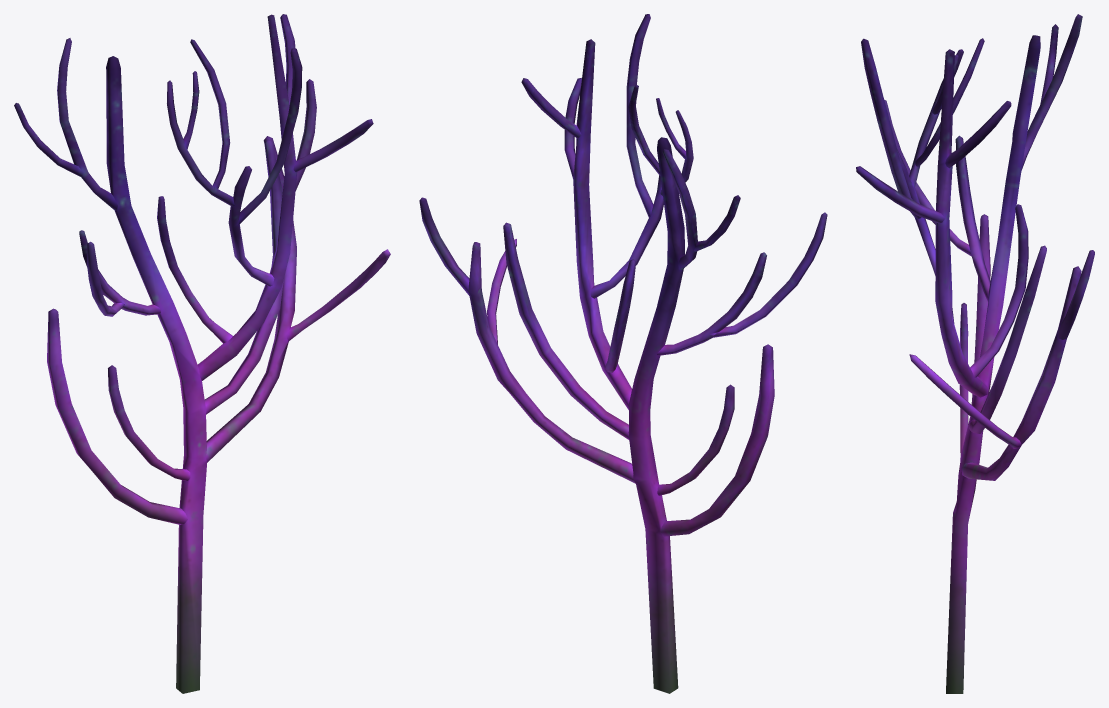
Rendered from Sce_Aquarium_Hawaii01_SeaAnemone07.FBX.
3 renders of one model, left to right at view 1: azimuth 30°, elevation 25°; view 2: azimuth 150°, elevation 25°; view 3: azimuth 270°, elevation 25°, orthographic. The views are drawn at different scales.
Parts seen in each view (by area): view 1: Sce_Aquarium_Hawaii01_SeaAnemone07; view 2: Sce_Aquarium_Hawaii01_SeaAnemone07; view 3: Sce_Aquarium_Hawaii01_SeaAnemone07.
Boxes of the visible parts, bbox=[...] form: Sce_Aquarium_Hawaii01_SeaAnemone07: bbox=[14, 14, 390, 693]; Sce_Aquarium_Hawaii01_SeaAnemone07: bbox=[419, 14, 827, 693]; Sce_Aquarium_Hawaii01_SeaAnemone07: bbox=[856, 14, 1094, 693].
Bounding box in the file's own units: 0.4945 × 0.96 × 0.3043.
